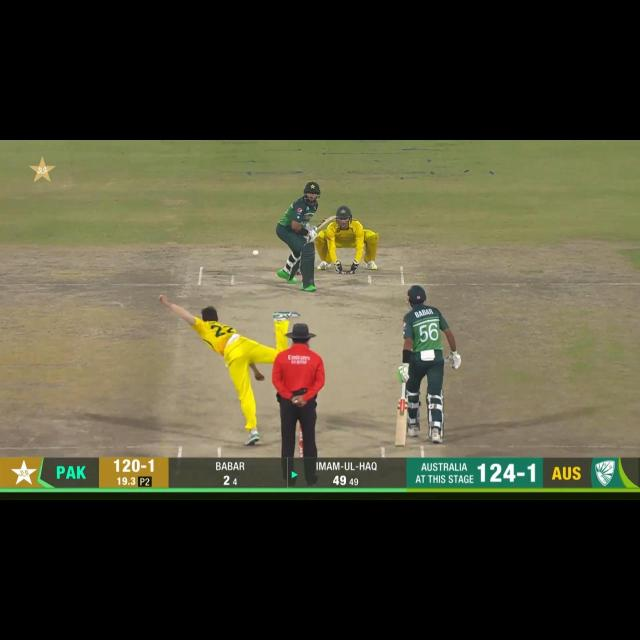bat: (392, 400, 407, 448), (314, 215, 338, 232)
toe: (393, 440, 406, 450), (328, 215, 337, 221)
